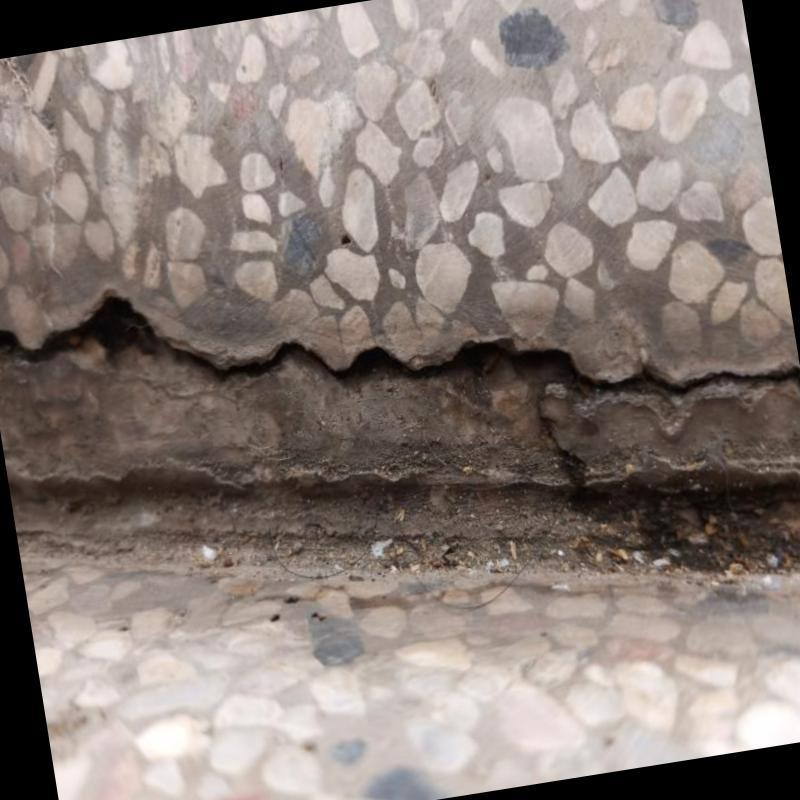crack: (0, 295, 800, 400)
